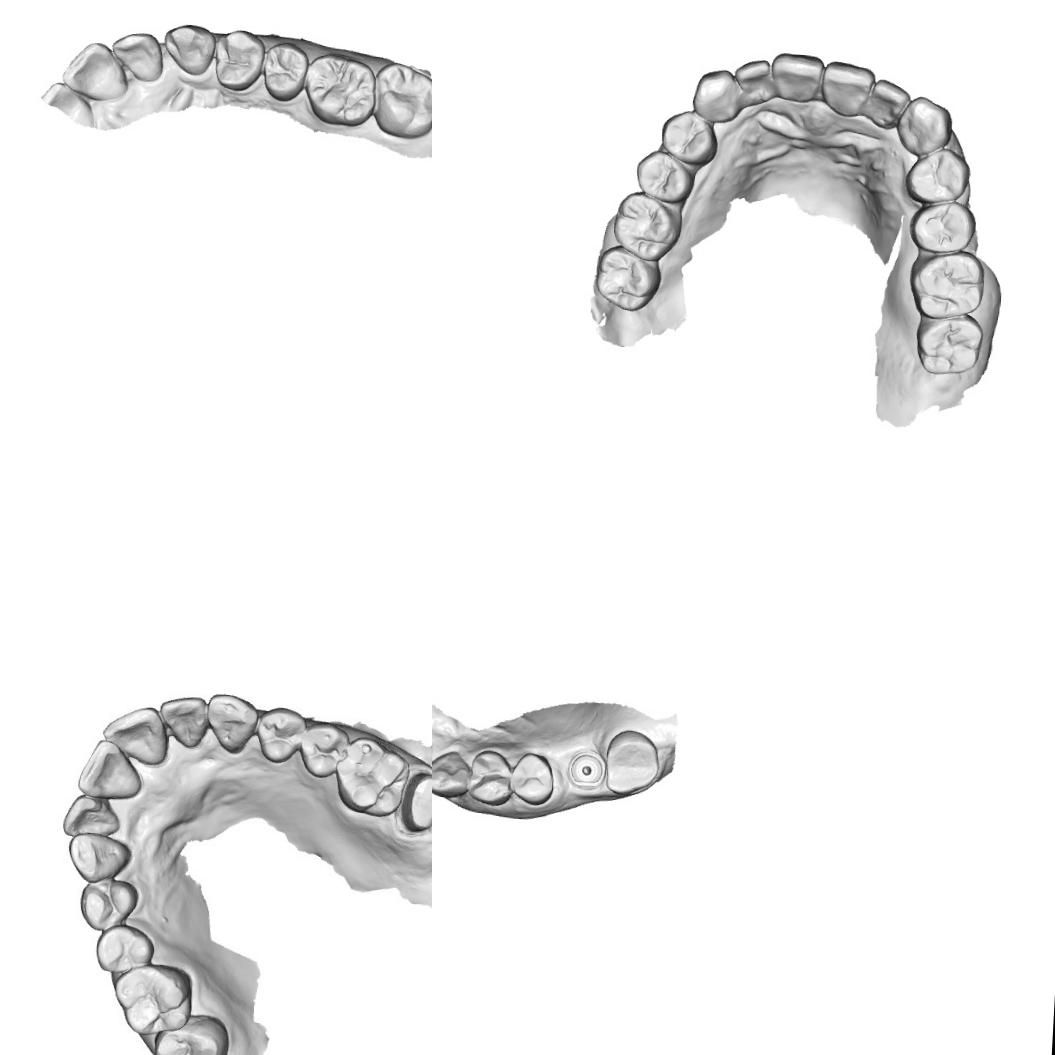canine: (894, 94, 954, 158), (64, 830, 133, 884), (204, 688, 258, 756), (689, 67, 743, 124), (162, 22, 216, 76), (432, 745, 473, 800)
crown: (397, 767, 432, 835)
implant: (567, 751, 606, 790)
incisor: (100, 698, 171, 769), (73, 736, 145, 801), (60, 39, 130, 103), (154, 689, 212, 751), (820, 59, 878, 118), (62, 792, 125, 841), (770, 50, 824, 103), (110, 30, 164, 82), (867, 78, 912, 130), (732, 56, 773, 105)
molar: (108, 960, 195, 1038), (904, 249, 988, 323), (334, 734, 408, 818), (302, 51, 378, 128), (610, 189, 684, 263), (592, 242, 664, 313), (371, 60, 432, 140), (912, 311, 984, 376), (600, 727, 662, 800), (150, 1009, 230, 1055)
premolar: (902, 144, 971, 207), (906, 198, 978, 254), (92, 922, 156, 980), (211, 27, 267, 93), (75, 876, 142, 930), (658, 108, 720, 166), (292, 718, 350, 780), (633, 147, 696, 204), (260, 40, 310, 103), (255, 704, 303, 766), (465, 746, 513, 808), (508, 747, 556, 808)
